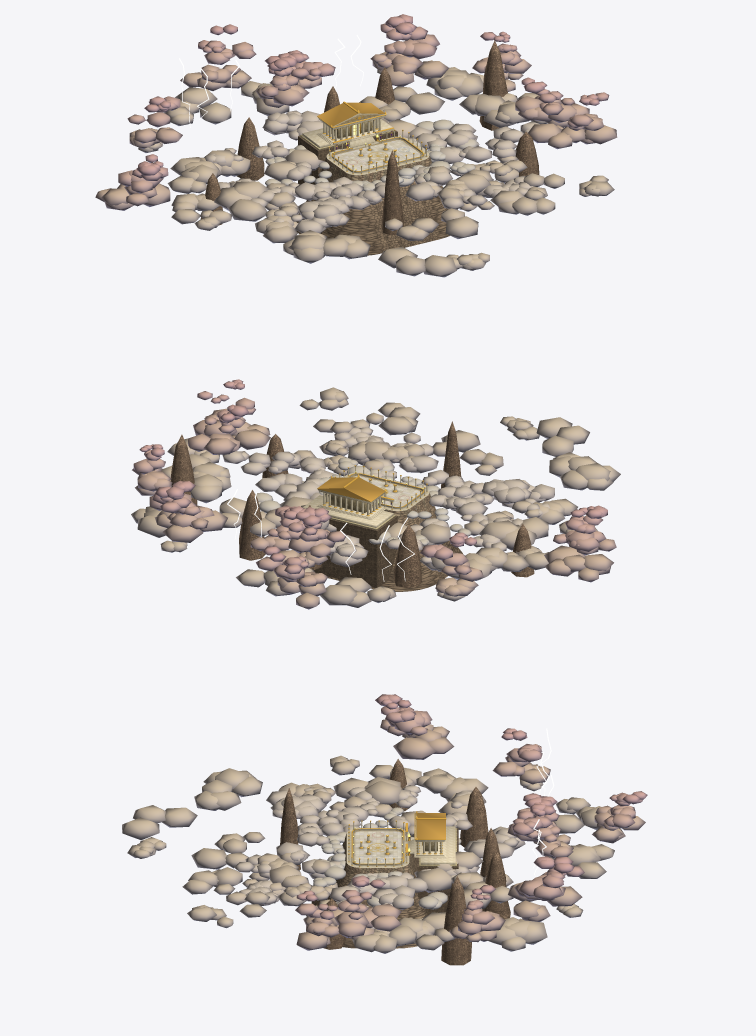
File: arena_olympus.glb
3 renders of one model, top to bottom at view 1: azimuth 30°, elevation 25°; view 2: azimuth 150°, elevation 25°; view 3: azimuth 270°, elevation 25°, orthographic.
Parts seen in each view (by area): view 1: Clouds, Far, Decor, Temple, Ground, Walls; view 2: Clouds, Temple, Far, Decor, Ground, Walls; view 3: Clouds, Far, Temple, Decor, Ground, Walls.
Part boxes in pixels (box(x1,y1,x2,y2)): Clouds: box(95, 14, 617, 277); Far: box(179, 35, 539, 235); Decor: box(296, 127, 457, 255); Temple: box(298, 101, 397, 184); Ground: box(333, 139, 422, 170); Walls: box(326, 136, 429, 175); Clouds: box(131, 379, 620, 609); Temple: box(303, 474, 397, 587); Far: box(170, 421, 534, 587); Decor: box(325, 465, 462, 591); Ground: box(351, 475, 422, 506); Walls: box(328, 472, 429, 511); Clouds: box(122, 694, 647, 953); Far: box(280, 728, 557, 965); Temple: box(408, 811, 458, 914); Decor: box(311, 820, 434, 948); Ground: box(352, 830, 404, 863); Walls: box(346, 828, 409, 867).
Size of the model in its own units: 460 by 90.51 by 460.
12 materials, 5 textured.
